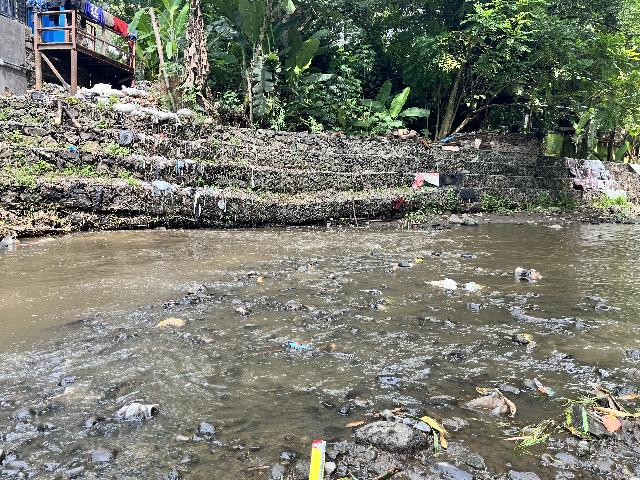Sampah Anorganik: (468, 382, 519, 422), (310, 435, 326, 480), (512, 263, 545, 283), (533, 378, 554, 396), (284, 337, 311, 351), (361, 288, 384, 296), (411, 257, 426, 265), (328, 273, 335, 279)
Sampah Organik: (390, 406, 453, 455), (492, 423, 581, 455), (569, 393, 640, 431), (157, 317, 186, 328), (519, 331, 536, 348), (242, 463, 271, 471), (45, 392, 71, 400), (362, 411, 381, 419), (161, 300, 178, 307), (63, 358, 72, 368), (383, 298, 397, 304), (344, 422, 364, 426), (305, 262, 314, 269), (292, 304, 301, 311), (391, 264, 398, 271), (256, 275, 263, 282)
